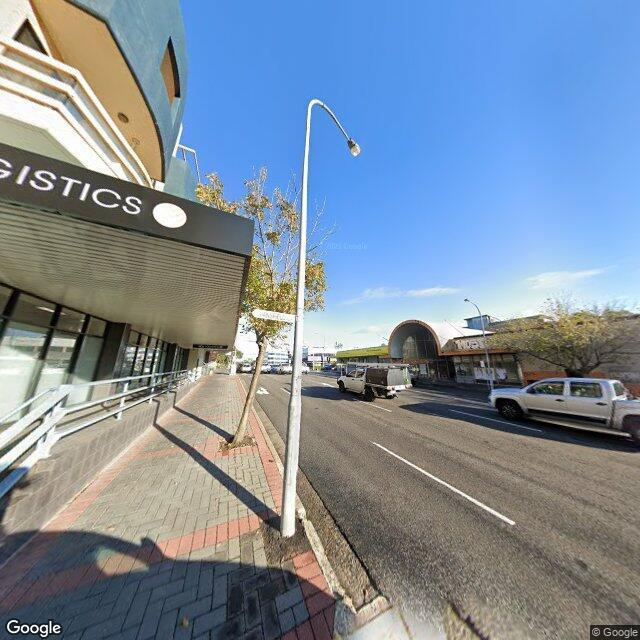steel-pole: (279, 99, 323, 537), (480, 316, 493, 389)
streetlight: (313, 100, 362, 158), (464, 298, 482, 316)
